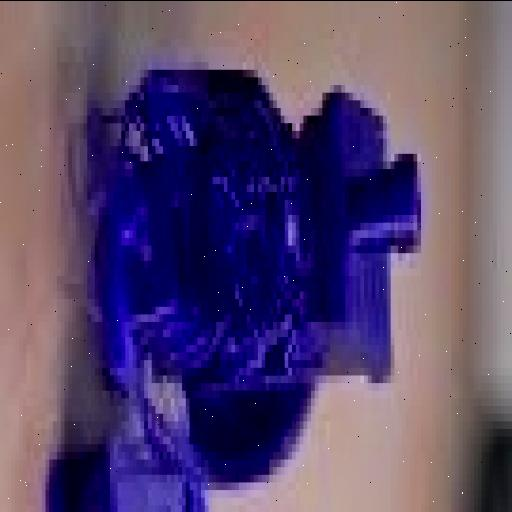spaghetti: (78, 84, 306, 356)
